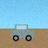vehicle: (11, 24, 34, 41)
